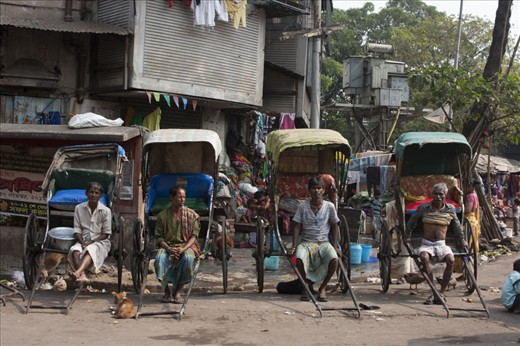Rickshaw: (259, 122, 364, 345), (387, 129, 499, 326), (131, 113, 236, 305), (23, 138, 122, 302)
